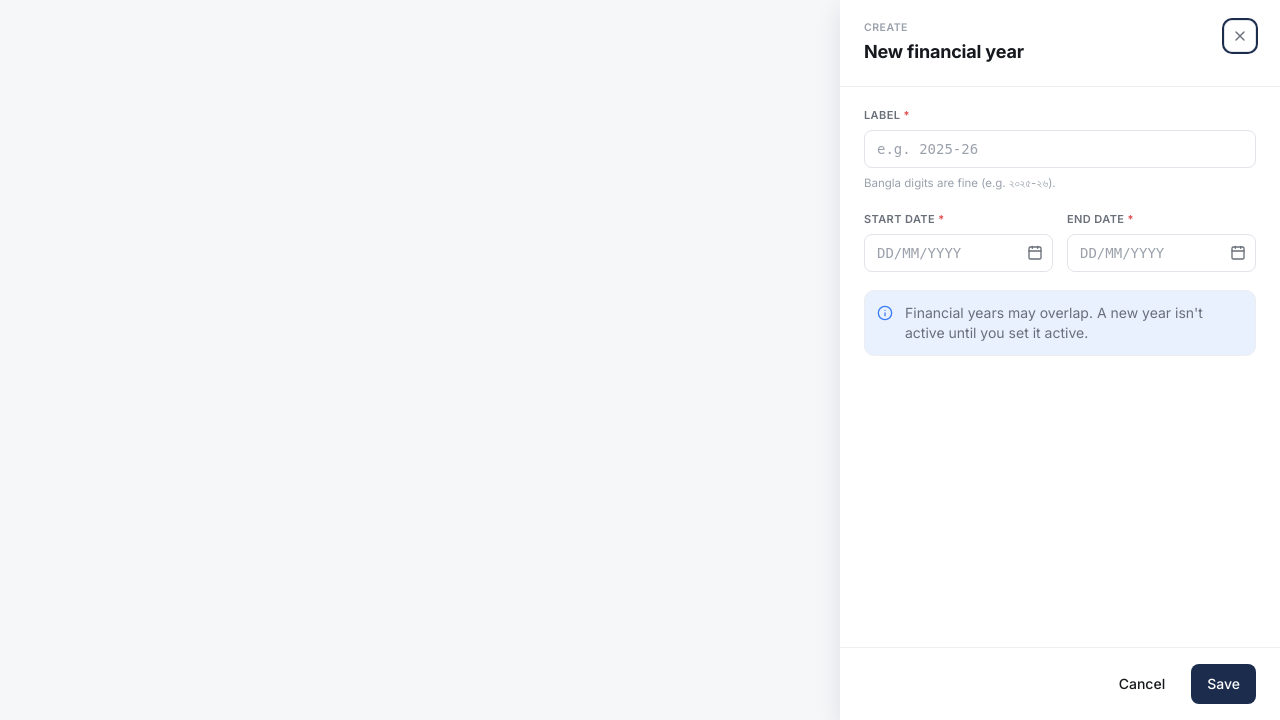
Test case: FinancialYearFormModal — validation + error mapping › rejects end <= start with the date-order message; overlap is allowed (FR-MAS-002)
Type "2026-27" into the field labelled "Label *" at coordinates (1060, 149), box [864,130,1256,168]
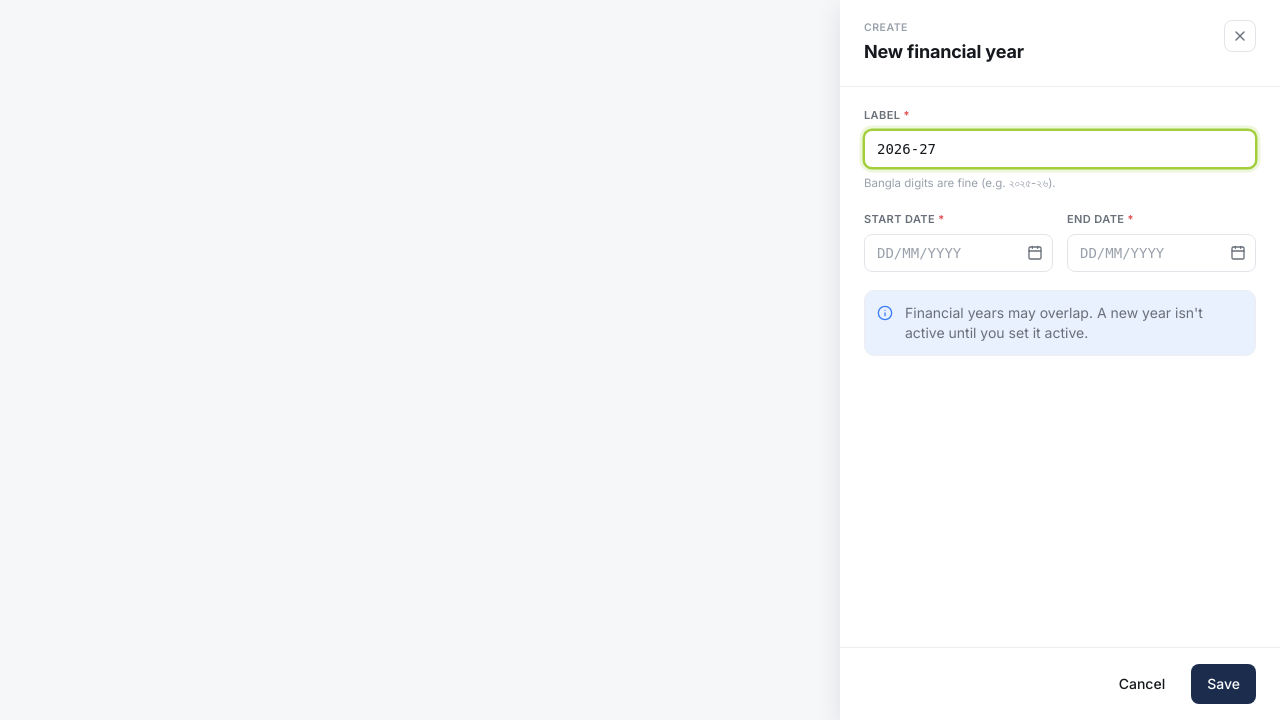
Type "01/07/2026" into the field labelled "Start date *" at coordinates (958, 253), box [864,234,1053,272]
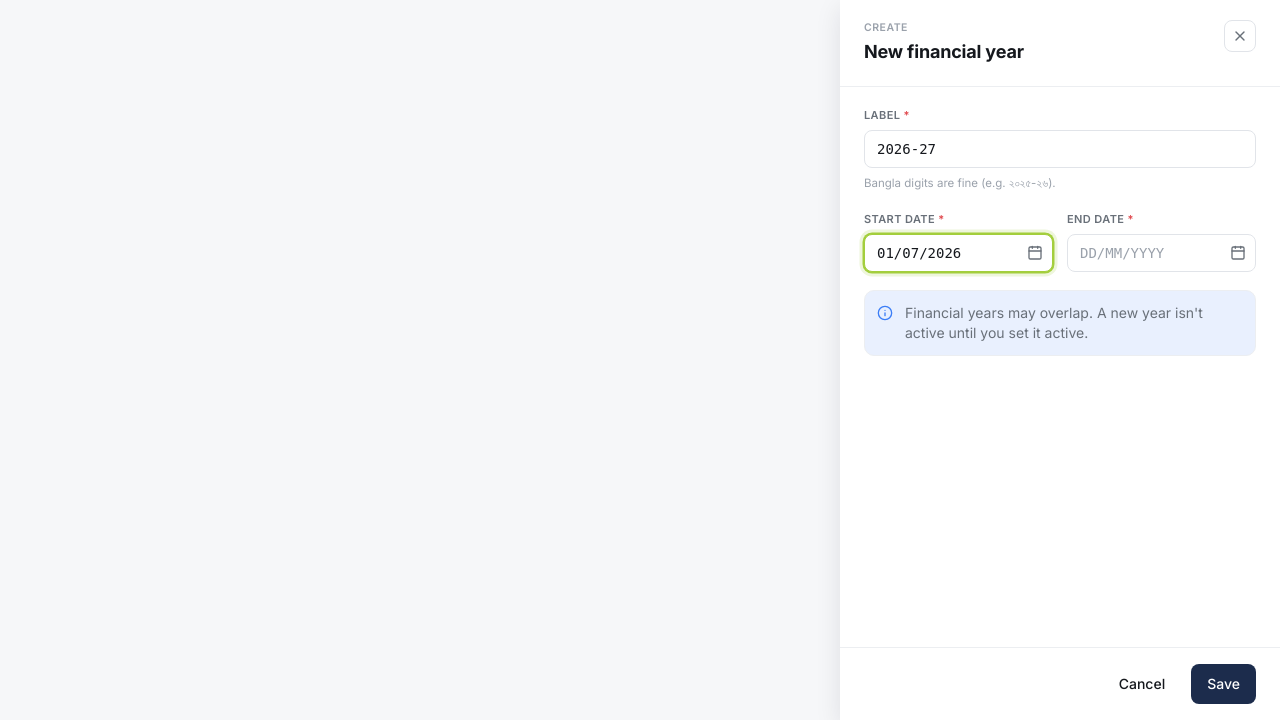
Type "30/06/2026" into the field labelled "End date *" at coordinates (1162, 253), box [1067,234,1256,272]
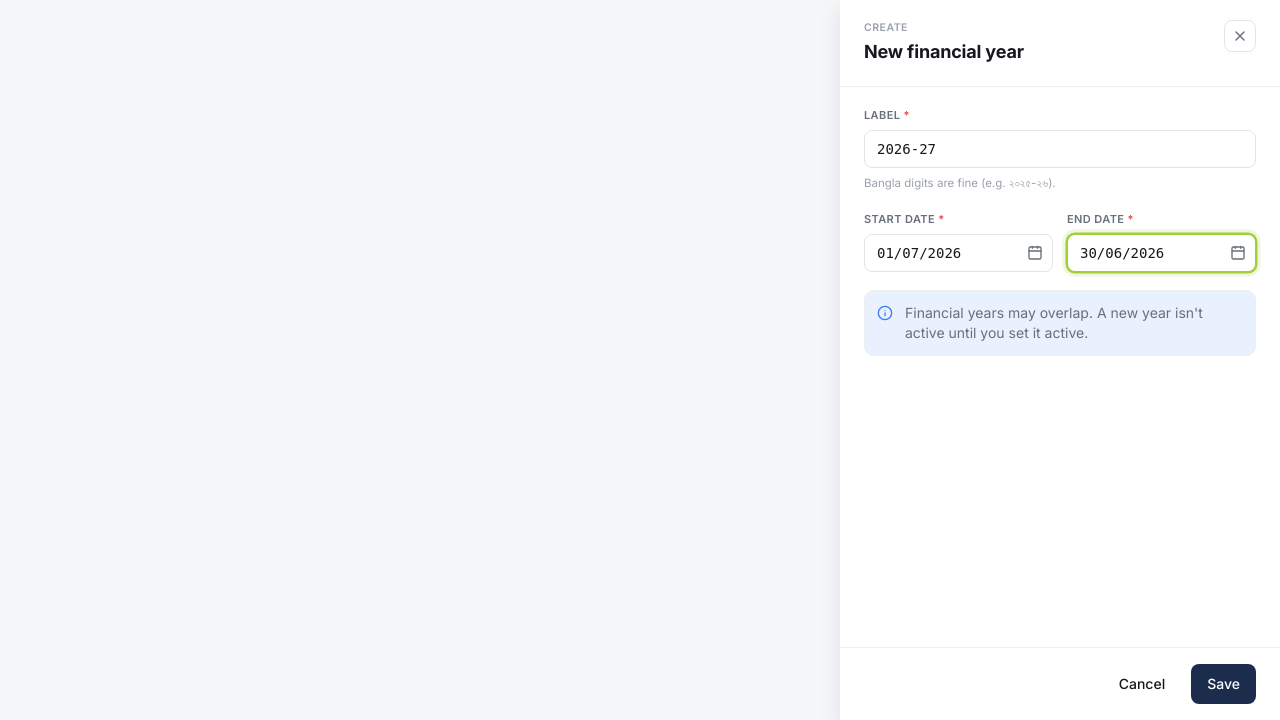
Click the button with test id "fy-save" at coordinates (1224, 684), box [1191,664,1256,704]
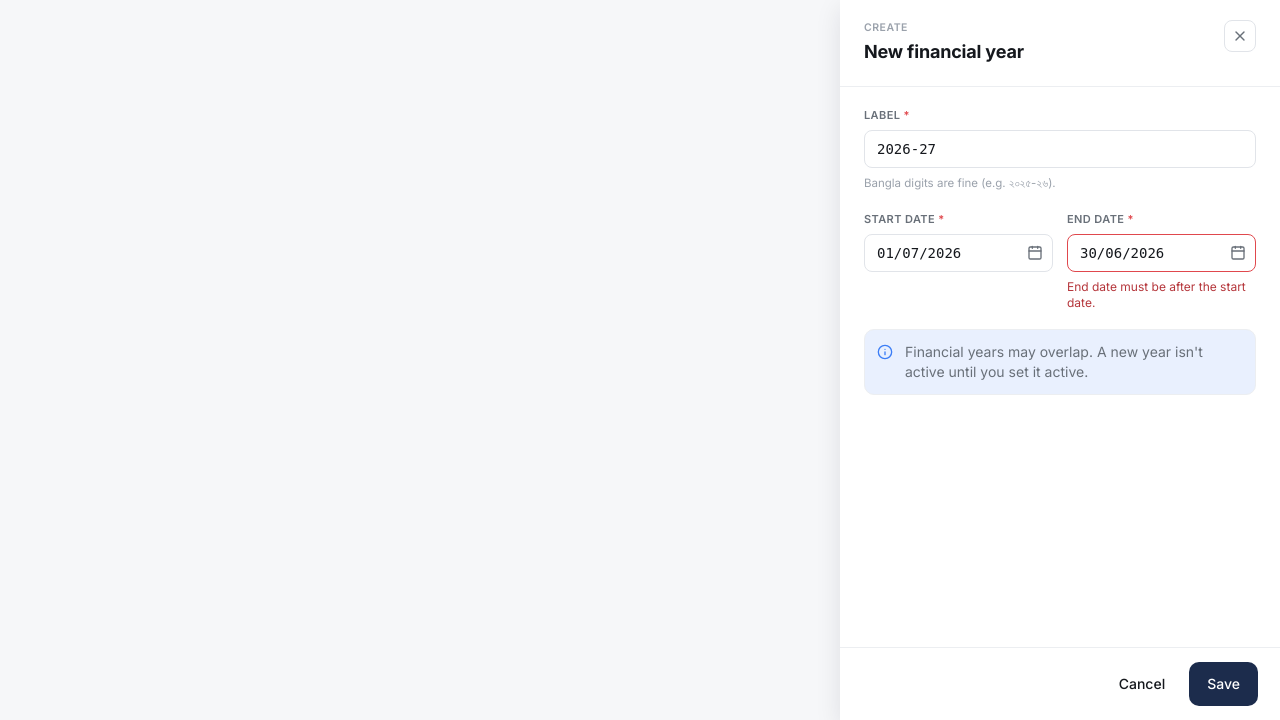
Expected: the text "Financial years may overlap" is shown, [905,343,1203,380]
Expected: the text "End date must be after the start date." is shown, [1067,279,1256,311]
